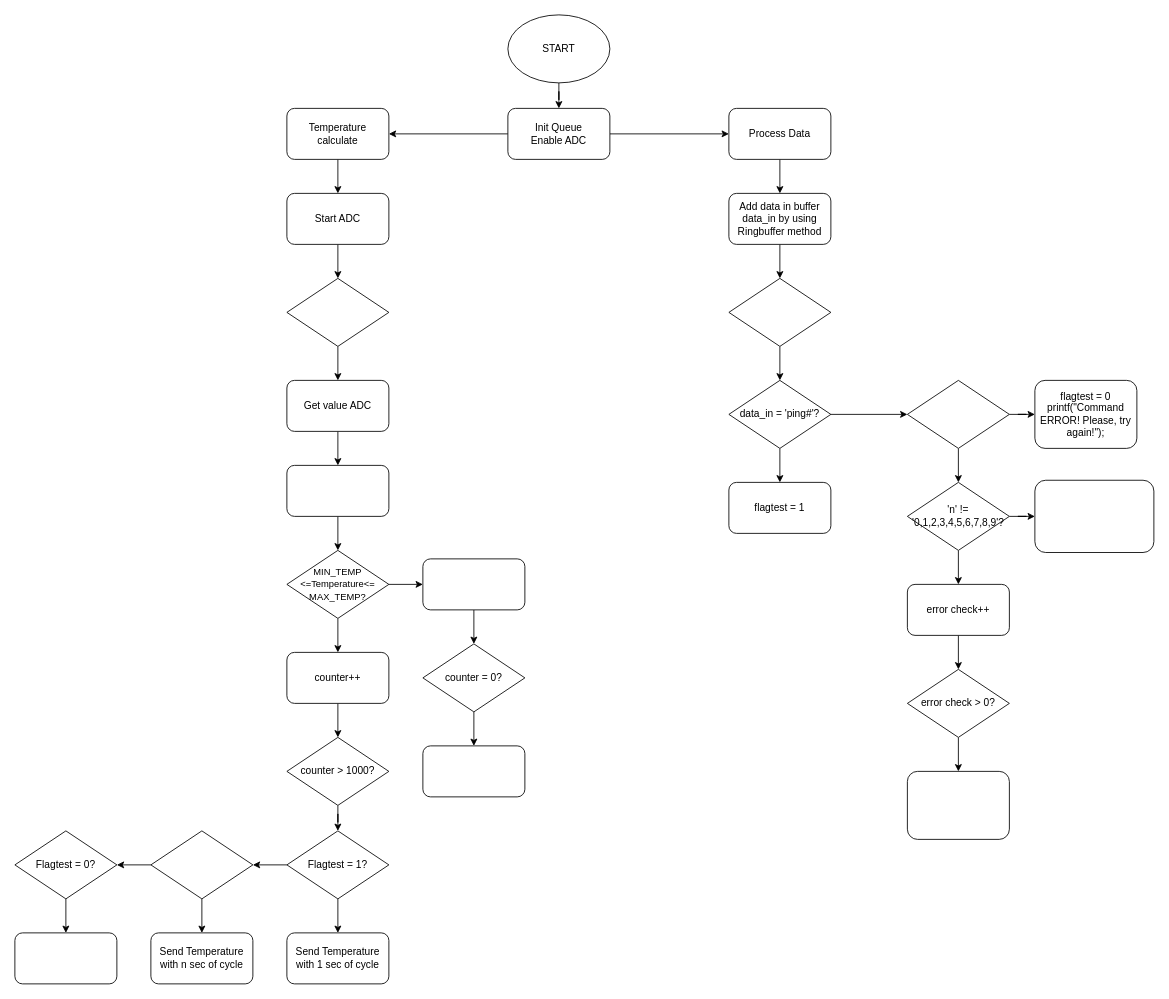
Image size: 1169x999. Some labels were removed from this diagram. The shapes that lost their labels are listed below. From the top down, each one's box as (x1, y1, x2, y2) in pixels, then its label:
(286, 278, 389, 346): Wait for Conversion
(728, 278, 831, 346): Final character of data_in = '#'?
(907, 380, 1009, 448): data_in = 'pingn#'?
(286, 465, 389, 516): Calculate Temperature and add data in buffer temp
(1034, 479, 1154, 552): Calculate average of Temperature T = (T0+T1+T2+...+Tn)/n flagtest = 2
(422, 558, 525, 610): counter = 0
(422, 745, 525, 797): printf("#Temperature, 32767 ,CS") with 1 sec of cycle
(907, 771, 1009, 839): flagtest = 0 error check = 0 printf("Command ERROR! Please, try again!");
(150, 830, 253, 899): Flagtest = 2?
(14, 932, 117, 984): Send Temperature with 0.5 sec of cycle
